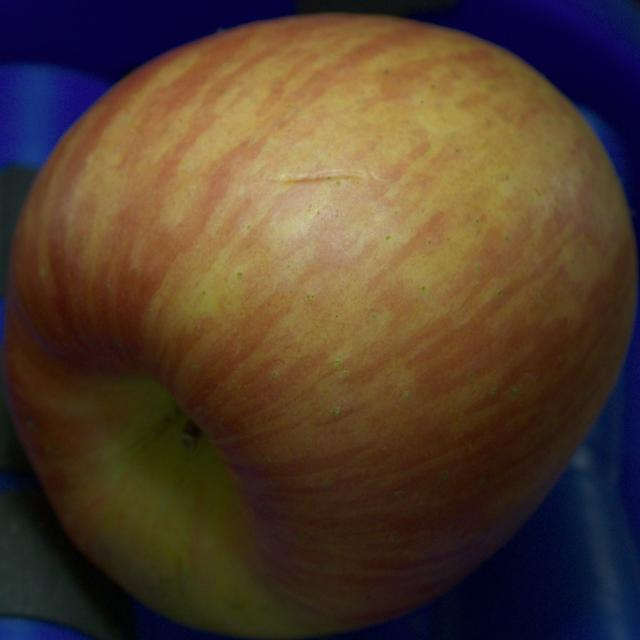apple: (3, 16, 638, 639)
scratch: (269, 169, 381, 181)
